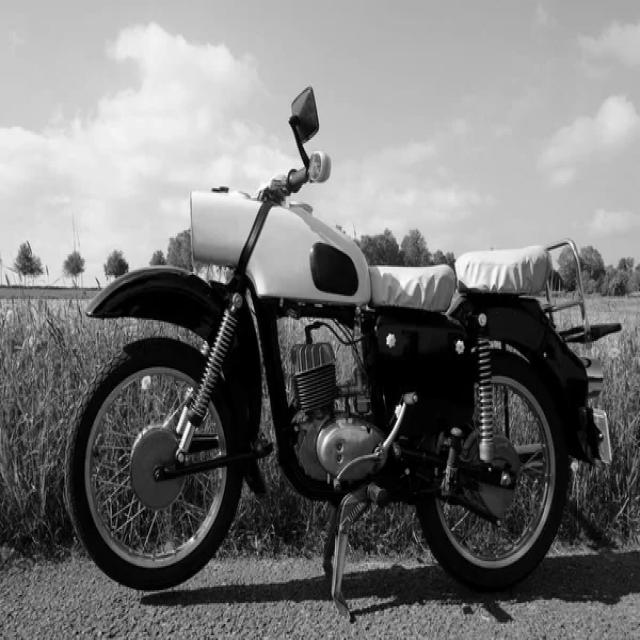Motorcycle: (65, 87, 622, 613)
